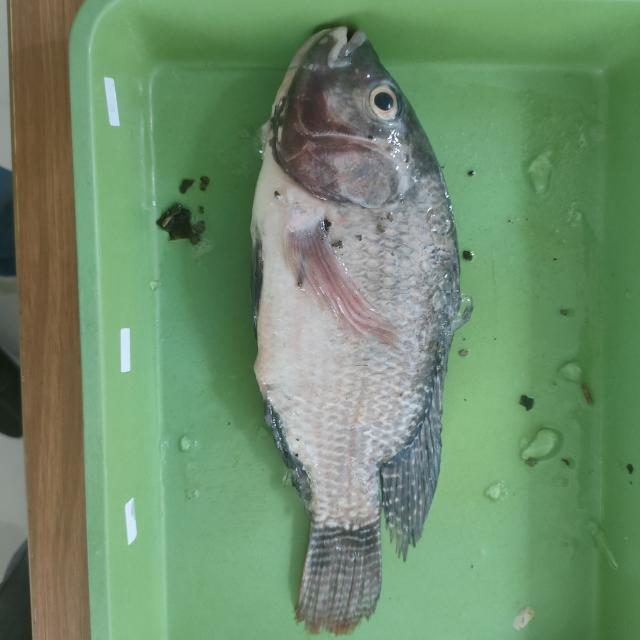Fresh: (252, 120, 461, 509), (360, 76, 405, 122)
